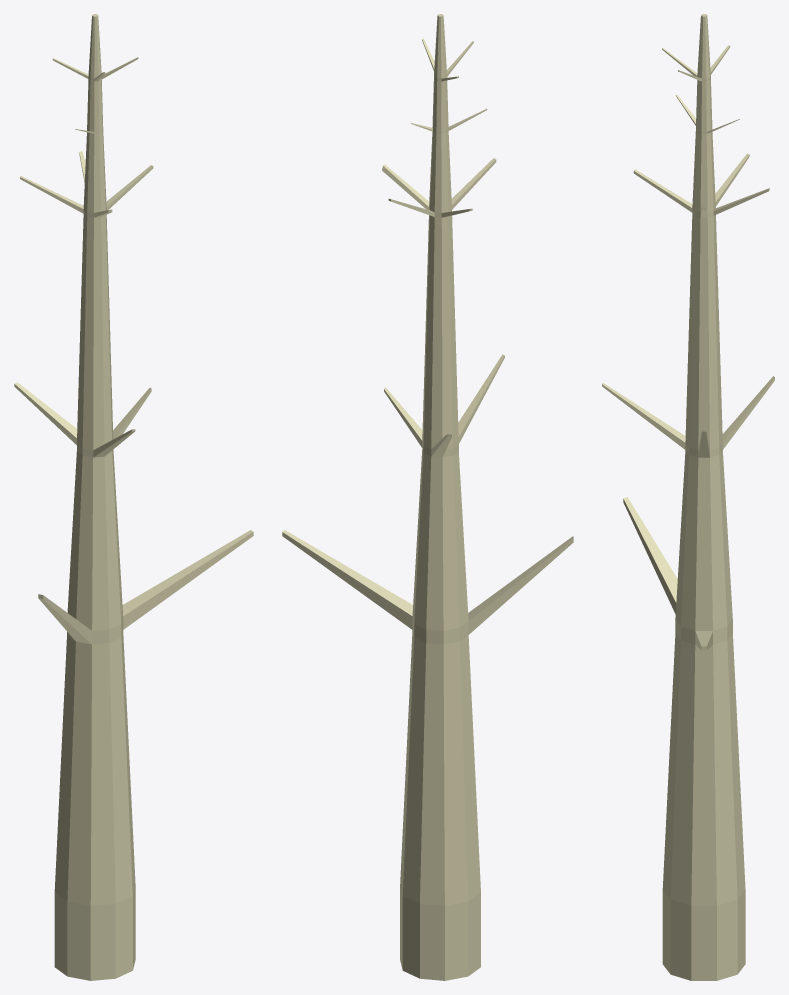
The model's file is Tree10.fbx.
3 renders of one model, left to right at view 1: azimuth 30°, elevation 25°; view 2: azimuth 150°, elevation 25°; view 3: azimuth 270°, elevation 25°, orthographic.
Parts seen in each view (by area): view 1: Cylinder.134; view 2: Cylinder.134; view 3: Cylinder.134.
Part boxes in pixels (x1=…): Cylinder.134: x1=14, y1=14, x2=253, y2=980; Cylinder.134: x1=282, y1=14, x2=573, y2=980; Cylinder.134: x1=602, y1=14, x2=774, y2=980.
Bounding box in the file's own units: 2990 × 10749 × 1776.
